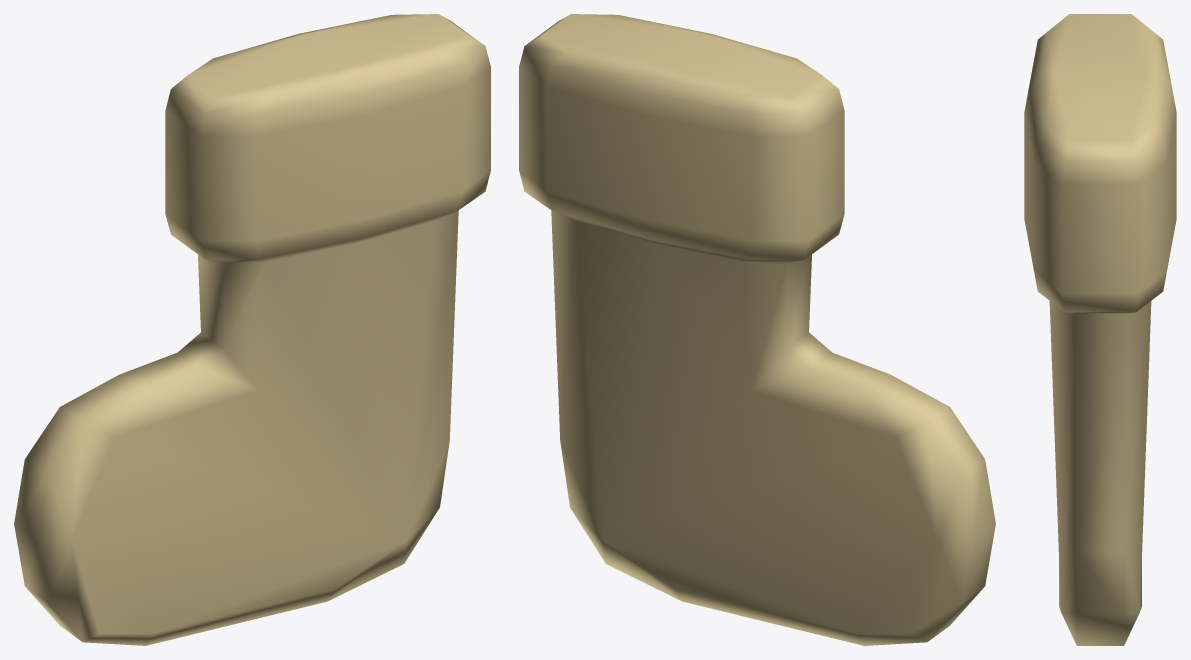
File: valenok.fbx
3 views of the same model, side by side, from view 1: azimuth 30°, elevation 25°; view 2: azimuth 150°, elevation 25°; view 3: azimuth 270°, elevation 25° (orthographic). The views are drawn at different scales.
Visible parts, largest first — view 1: valenok; view 2: valenok; view 3: valenok.
Part boxes in pixels (bbox=[...]): valenok: bbox=[14, 14, 490, 645]; valenok: bbox=[519, 14, 995, 645]; valenok: bbox=[1024, 14, 1176, 645].
Size of the model in its own units: 40.53 by 46.76 by 11.5.
